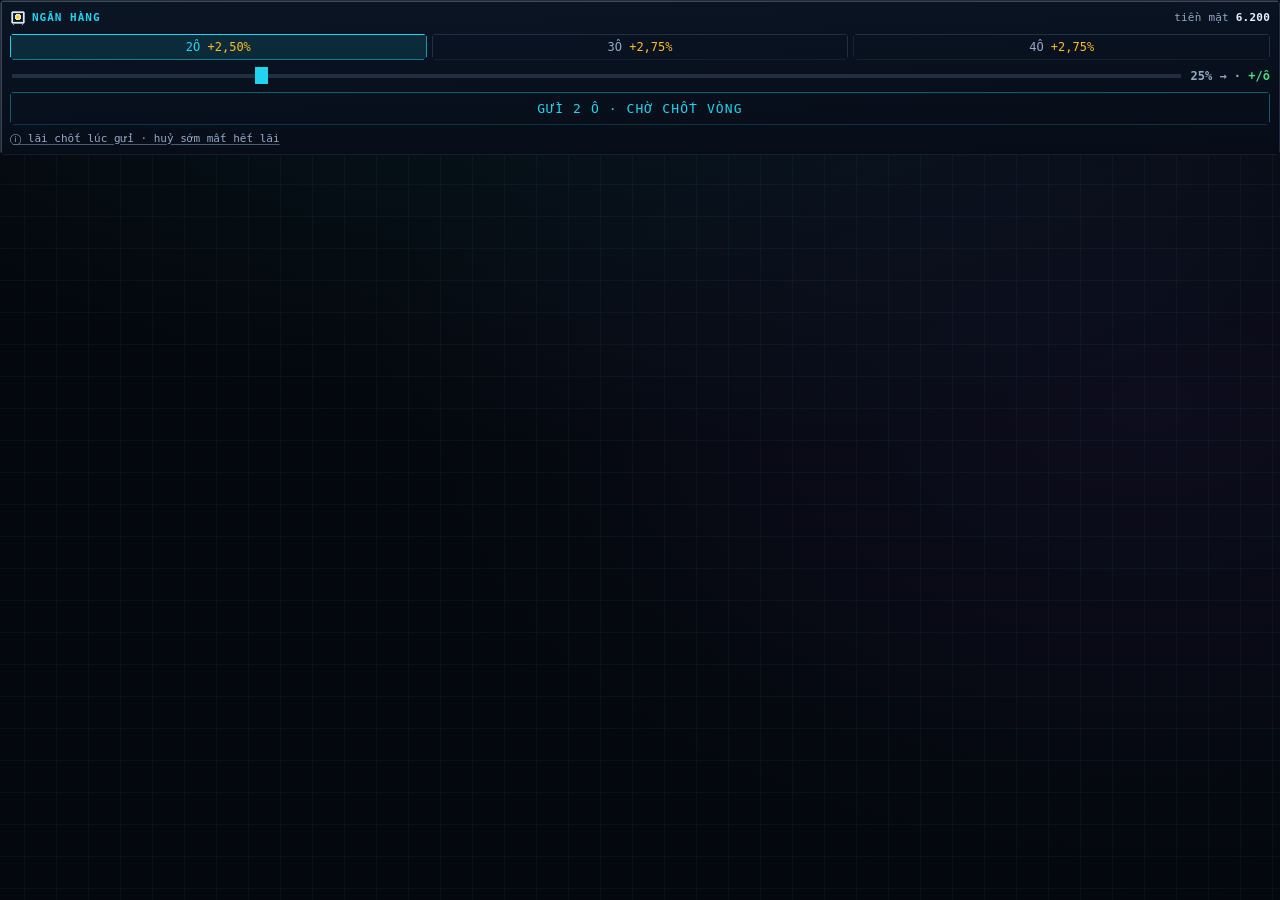
Scenario: I-b. TIẾT LỘ KHI TƯƠNG TÁC (founder 09/09 — gọn trong một khung hình) › dòng ⓘ gộp mọi lời giải thích — nhưng vẫn nói CÁI GIÁ khi chưa mở
Expected: the text "không bị lạm phát ăn" is not shown
Click the button "ⓘ lãi chốt lúc gửi · huỷ sớm mất hết lãi" at (81, 138), box [10,132,1270,144]
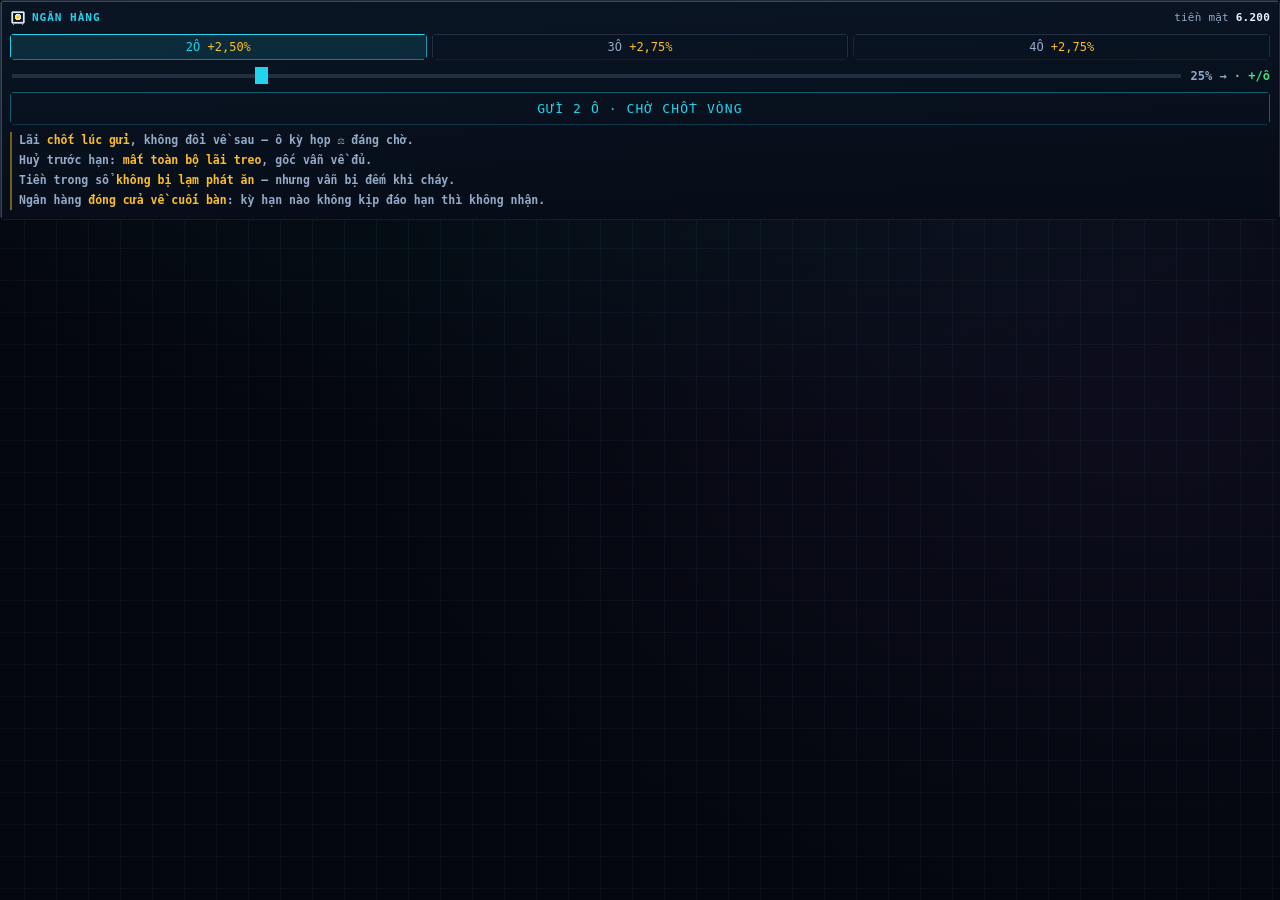
Expected: the text "không bị lạm phát ăn" is shown, [116,173,254,187]
Expected: the text "đóng cửa về cuối bàn" is shown, [88,193,227,207]
